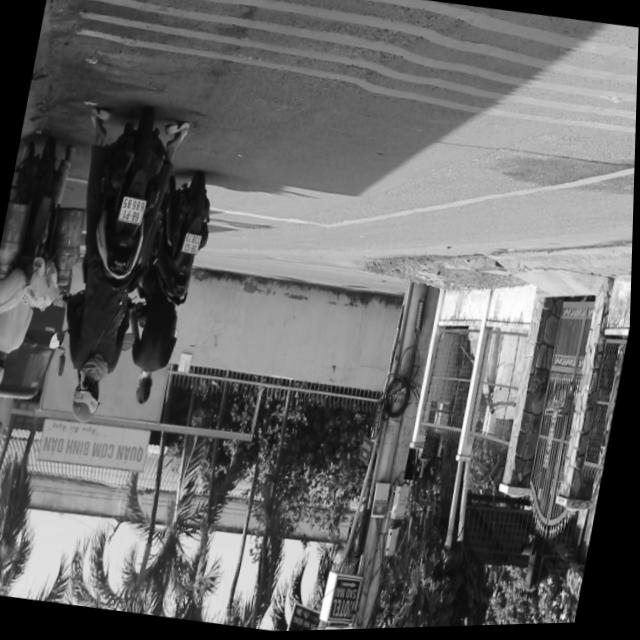helmet: (70, 376, 107, 429), (0, 346, 12, 394)
licenseplate: (42, 104, 181, 434), (119, 171, 222, 417), (0, 135, 78, 401)
motorcyclist: (136, 373, 160, 410)
nohelmet: (121, 199, 149, 227), (184, 237, 202, 259)
